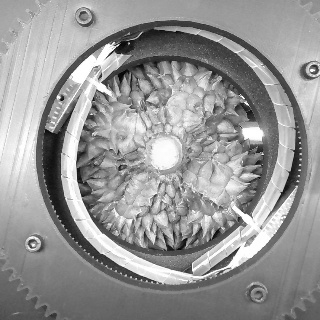base: (141, 132, 190, 179)
end: (149, 136, 180, 171)
